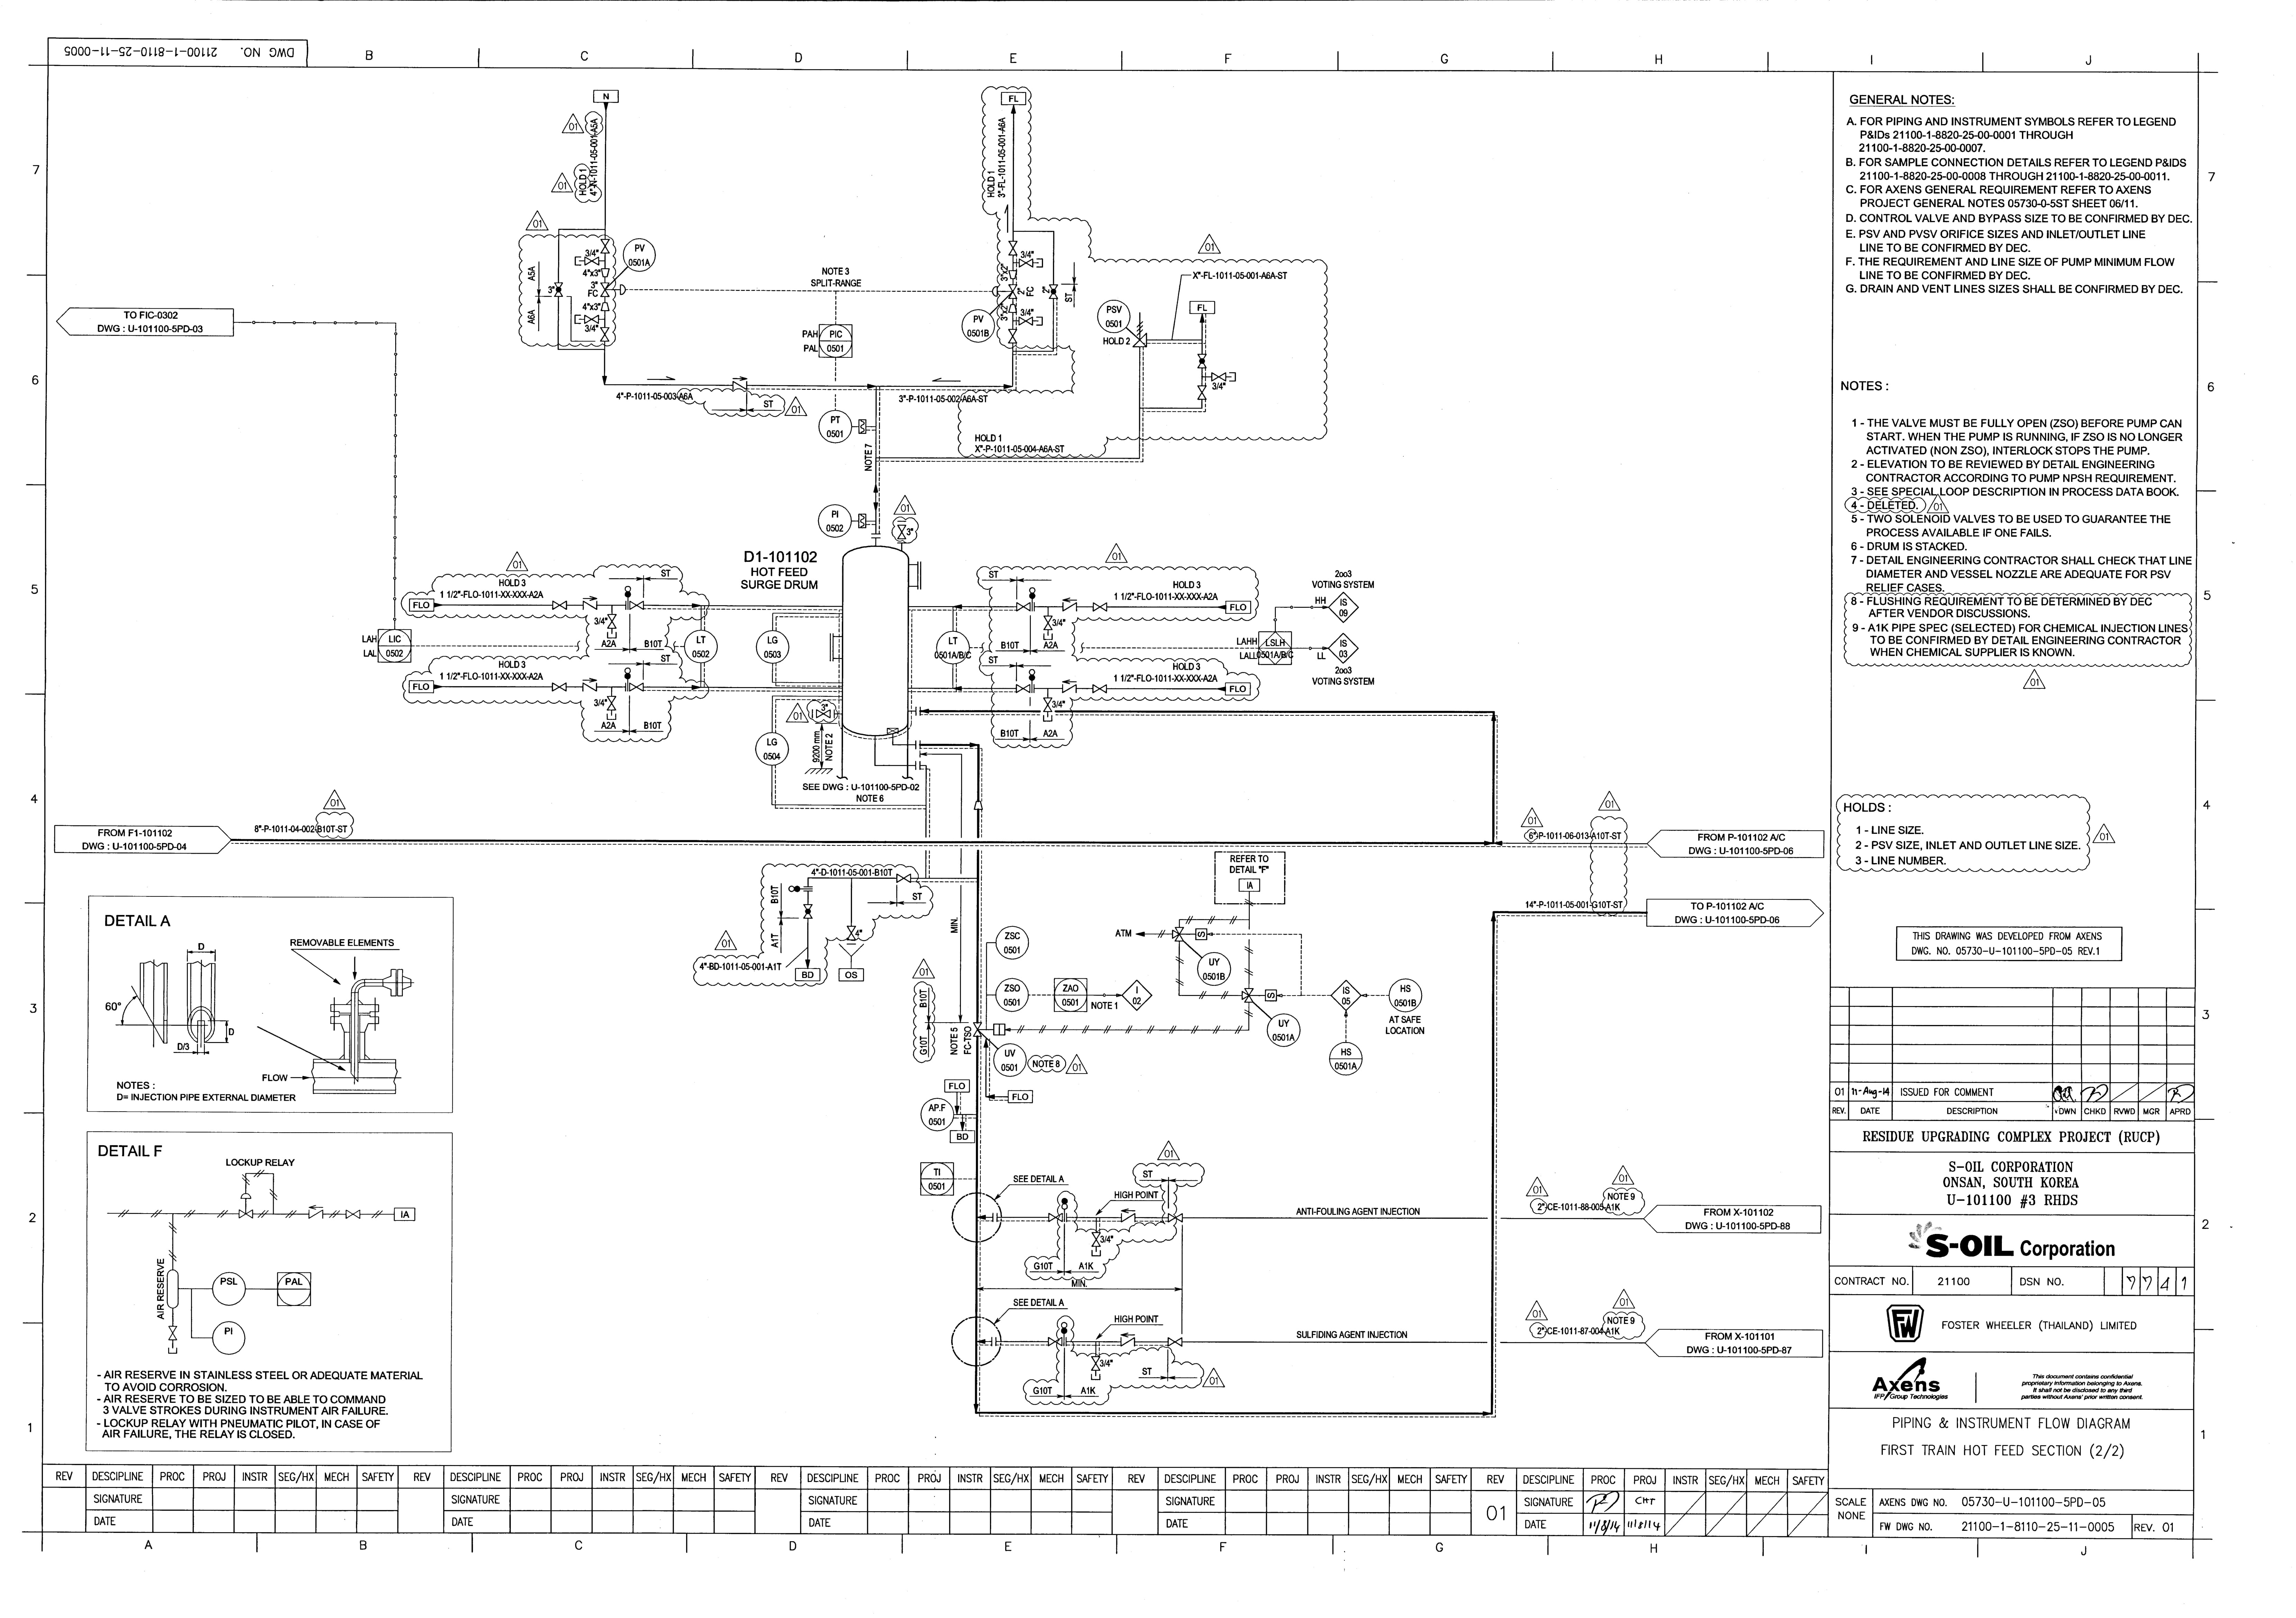NAS: (165, 1268, 184, 1312), (972, 1021, 1009, 1038), (578, 678, 601, 695), (1131, 331, 1151, 350), (1175, 933, 1201, 947), (730, 376, 751, 392), (1193, 926, 1214, 942), (970, 1019, 986, 1040), (581, 595, 599, 613), (1061, 597, 1079, 615), (1119, 1208, 1138, 1224), (329, 1000, 342, 1024), (1240, 988, 1256, 1005), (1170, 926, 1186, 944), (306, 1205, 326, 1219), (370, 1205, 384, 1224), (1284, 641, 1301, 655), (592, 697, 615, 707), (588, 678, 604, 692), (1335, 665, 1356, 676), (991, 1023, 1007, 1037), (856, 513, 869, 531), (620, 681, 637, 693), (1243, 986, 1254, 1005), (1173, 925, 1184, 944), (823, 734, 835, 749), (401, 977, 413, 993), (856, 419, 867, 436), (664, 641, 678, 653), (1254, 643, 1266, 657), (382, 975, 394, 989), (643, 721, 662, 730), (1158, 1375, 1177, 1383), (601, 720, 616, 730), (1268, 658, 1284, 669), (886, 727, 900, 737), (622, 727, 637, 735), (690, 685, 706, 693), (974, 1213, 990, 1222), (762, 753, 781, 760), (573, 256, 583, 268), (1135, 322, 1145, 334), (618, 599, 629, 611), (623, 667, 634, 679), (622, 667, 632, 679), (637, 681, 648, 693), (580, 681, 592, 692), (669, 644, 681, 655), (695, 634, 708, 644), (1243, 986, 1254, 998), (1243, 993, 1254, 1005), (1243, 944, 1254, 956), (972, 315, 986, 324), (594, 616, 608, 625), (1312, 678, 1329, 685), (1170, 930, 1184, 939), (1242, 898, 1256, 907), (1343, 678, 1359, 685), (1207, 914, 1217, 925), (573, 313, 581, 326), (1035, 315, 1044, 327), (622, 683, 634, 692), (765, 737, 778, 746), (1042, 632, 1054, 641), (1271, 630, 1284, 639), (1240, 991, 1252, 1000), (1156, 930, 1168, 939), (788, 886, 800, 895), (166, 1347, 179, 1355), (914, 760, 923, 770), (914, 739, 923, 749), (359, 979, 370, 988), (363, 1052, 371, 1063), (990, 1212, 998, 1222), (932, 376, 944, 383), (902, 774, 914, 781), (1089, 1373, 1102, 1380), (625, 587, 632, 597), (1089, 1250, 1103, 1256), (340, 1054, 347, 1061), (1030, 648, 1039, 653)
butterfly90: (1047, 282, 1060, 299), (1196, 352, 1208, 369), (553, 282, 564, 298)
reduce270: (599, 266, 609, 278), (1009, 270, 1018, 280)
reduce90: (972, 798, 984, 813), (599, 301, 611, 313), (604, 711, 618, 721), (1009, 303, 1018, 313)
valvecontrol0: (601, 282, 629, 298)
valvecontrol180: (991, 284, 1018, 301)
valvecontrol90: (236, 1191, 254, 1217)
valvegate0: (550, 681, 569, 693), (1166, 1212, 1186, 1224), (1210, 371, 1228, 383), (552, 599, 569, 611), (1091, 683, 1109, 695), (1166, 1336, 1184, 1348), (583, 256, 601, 266), (583, 313, 601, 324), (1018, 257, 1035, 268), (1018, 315, 1035, 326), (814, 709, 832, 720), (1014, 683, 1032, 693), (1091, 602, 1109, 613), (895, 872, 912, 883), (629, 601, 644, 611), (629, 681, 644, 692), (1016, 601, 1032, 611), (345, 1208, 361, 1219), (1047, 1212, 1063, 1222), (1047, 1336, 1063, 1347)
valvegate90: (1007, 238, 1019, 257), (166, 1324, 179, 1343), (1196, 383, 1208, 401), (606, 695, 618, 713), (802, 904, 814, 921), (599, 238, 611, 254), (599, 326, 609, 343), (1007, 327, 1018, 345), (897, 524, 907, 541), (606, 613, 616, 630), (846, 925, 856, 942), (1091, 1231, 1102, 1249), (1042, 697, 1053, 713), (1042, 615, 1053, 630), (1091, 1355, 1100, 1371)
